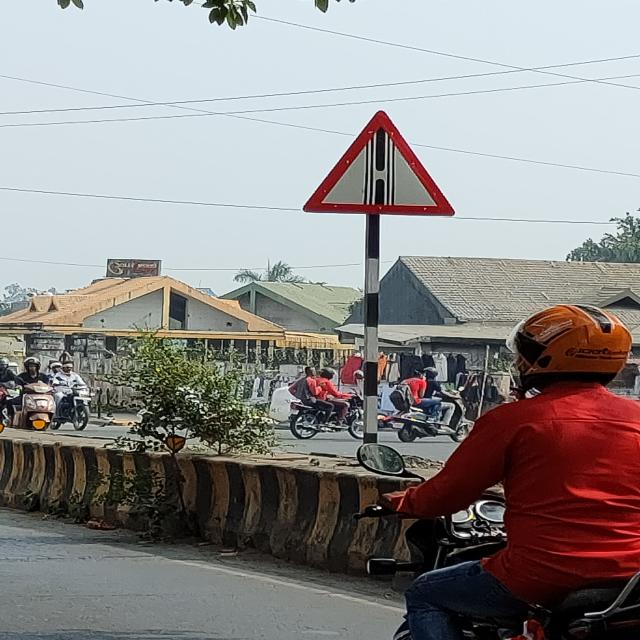ferry: (300, 109, 454, 215)
